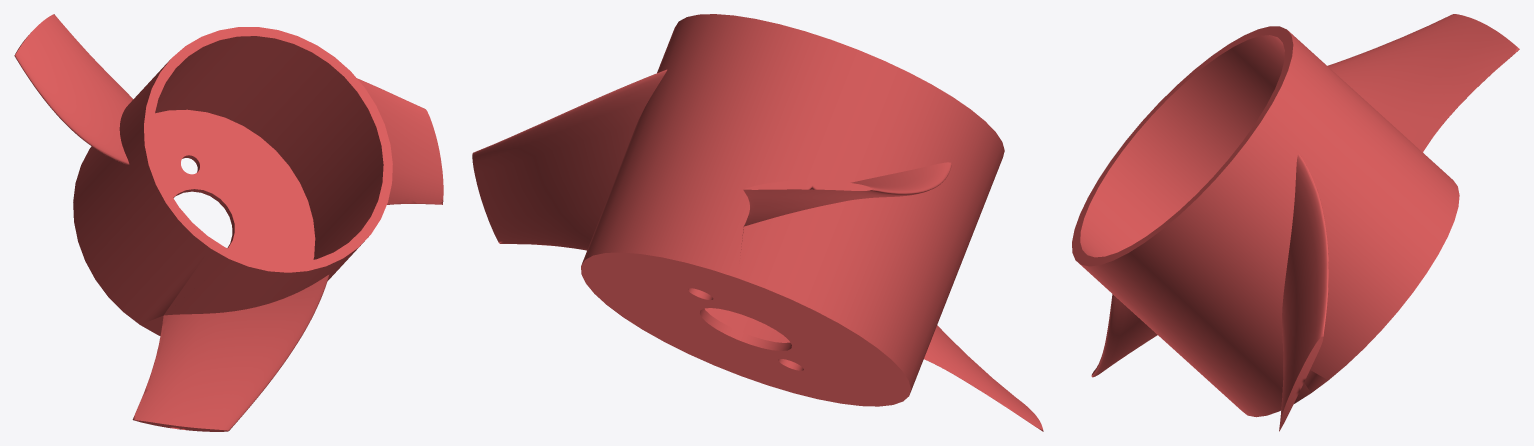
File: HUS.glb
The picture shows the model from 3 angles, left to right: view 1: azimuth 30°, elevation 25°; view 2: azimuth 150°, elevation 25°; view 3: azimuth 270°, elevation 25°; orthographic projection. The views are drawn at different scales.
Visible parts, largest first — view 1: CAD_material_0; view 2: CAD_material_0; view 3: CAD_material_0.
Boxes of the visible parts, bbox=[...] form: CAD_material_0: bbox=[14, 14, 443, 431]; CAD_material_0: bbox=[472, 14, 1043, 431]; CAD_material_0: bbox=[1072, 14, 1519, 431].
Size of the model in its own units: 0.0632 by 0.0532 by 0.0572.
